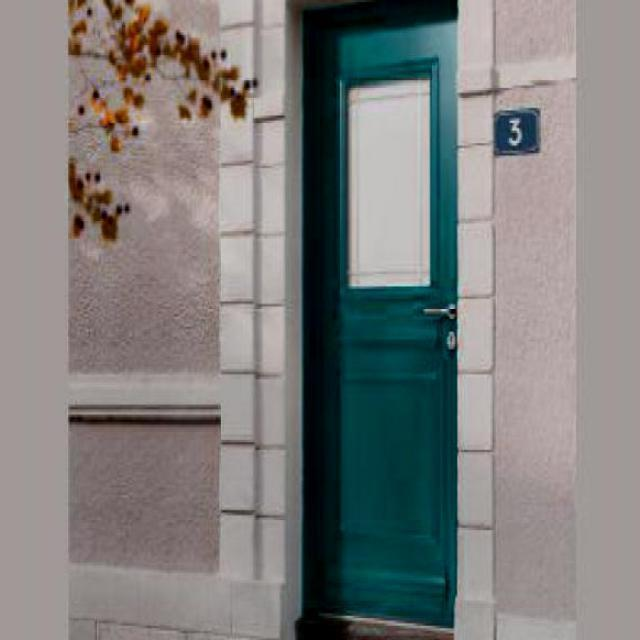door: (301, 1, 459, 633)
